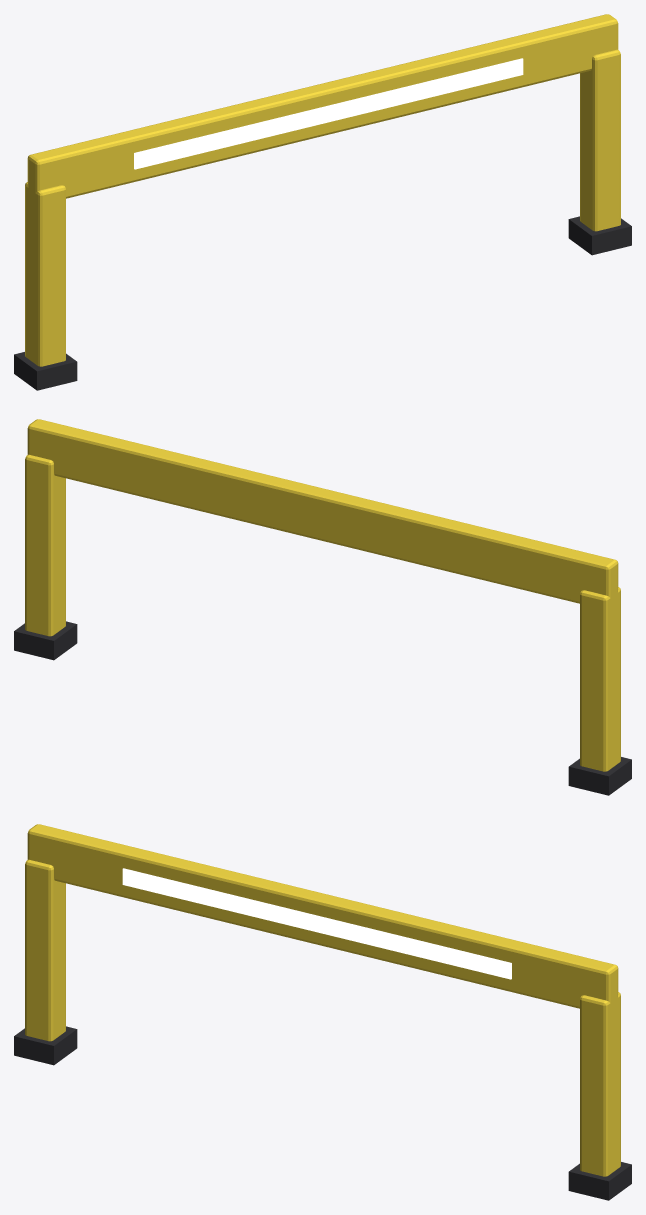
The model's file is gate_drift.glb.
The picture shows the model from 3 angles, top to bottom: view 1: azimuth 30°, elevation 25°; view 2: azimuth 150°, elevation 25°; view 3: azimuth 330°, elevation 25°; orthographic projection.
Parts seen in each view (by area): view 1: Gate.003; view 2: Gate.003; view 3: Gate.003.
Part boxes in pixels (x1,y1,x2,y2): Gate.003: (14,14,631,390); Gate.003: (14,419,631,795); Gate.003: (14,824,631,1200).
Size of the model in its own units: 19.3 by 6.9 by 1.3.
